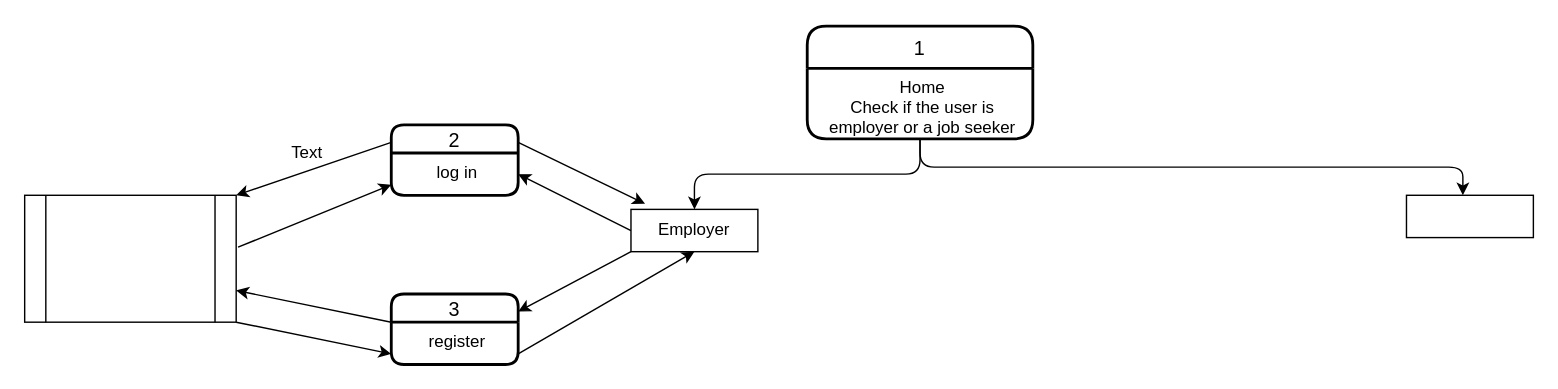
Image size: 1558x389. Some labels were removed from this diagram. The centre of each missing label's shape, as x and y in pixels:
"DB:Emplyer" belongs at point (129, 258).
"Job seeker" belongs at point (1469, 216).
